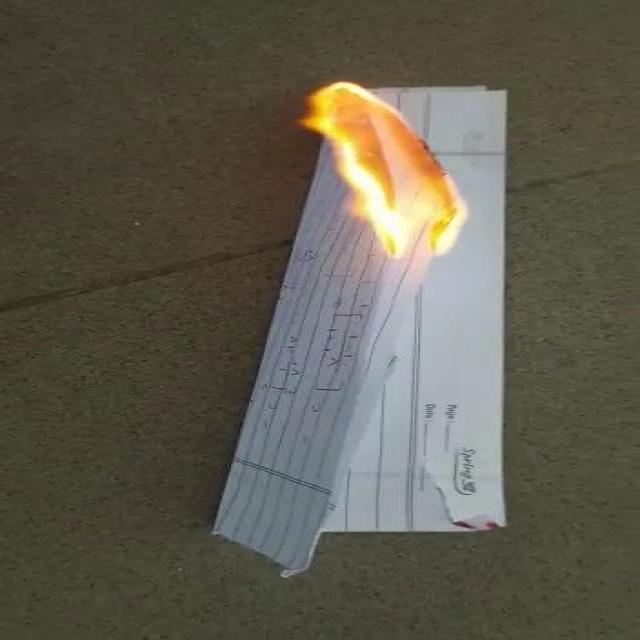Fire: (298, 81, 466, 272)
